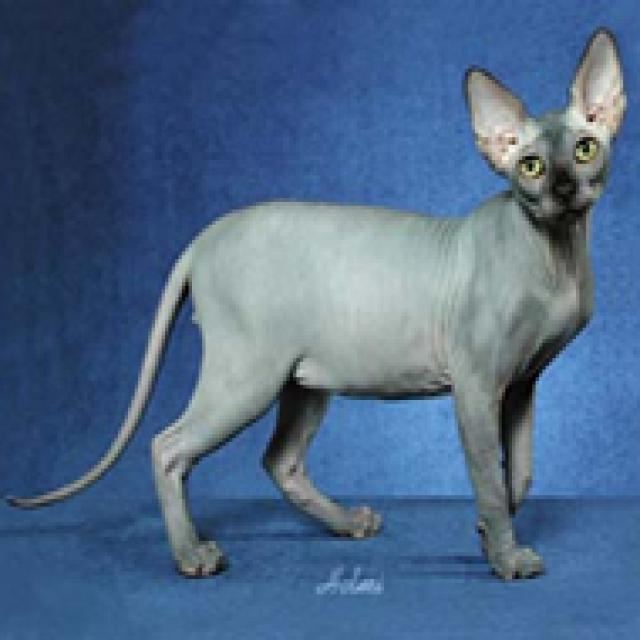Sphynx: (460, 24, 635, 227)
